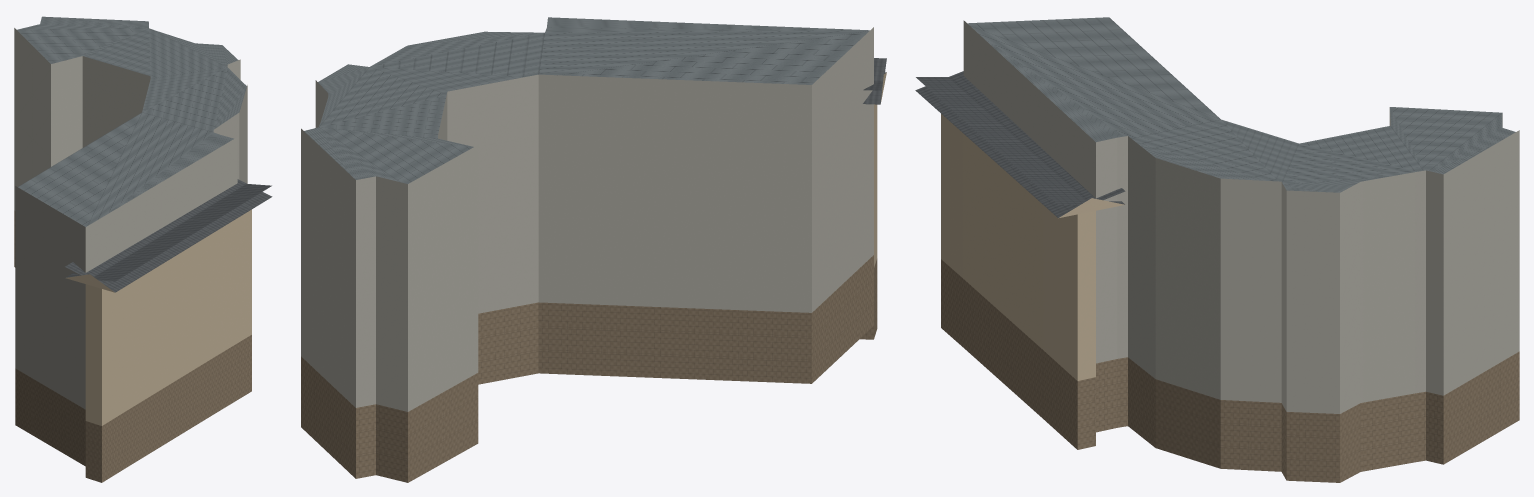
The model's file is bld_c-2_1_531.gltf.
3 views of the same model, side by side, from view 1: azimuth 30°, elevation 25°; view 2: azimuth 150°, elevation 25°; view 3: azimuth 270°, elevation 25° (orthographic). The views are drawn at different scales.
Visible parts, largest first — view 1: bld_c-2_1_531; view 2: bld_c-2_1_531; view 3: bld_c-2_1_531.
Part boxes in pixels (bbox=[...]): bld_c-2_1_531: bbox=[14, 16, 272, 482]; bld_c-2_1_531: bbox=[301, 17, 886, 482]; bld_c-2_1_531: bbox=[915, 17, 1519, 482].
Bounding box in the file's own units: 28.64 × 22.48 × 40.56.
Materials: 7 (7 with a texture image).
